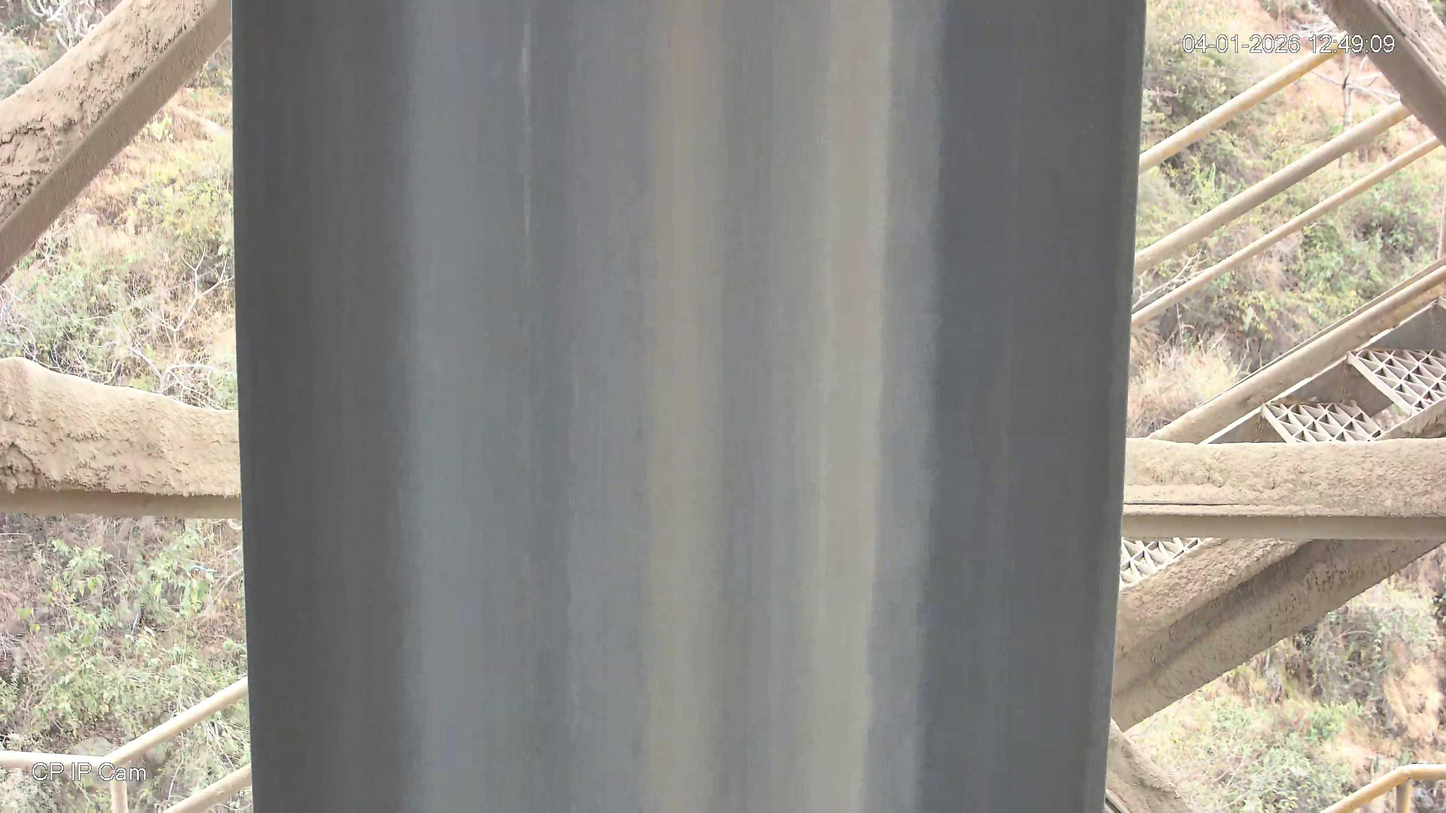belt_roi: (232, 0, 1149, 813)
